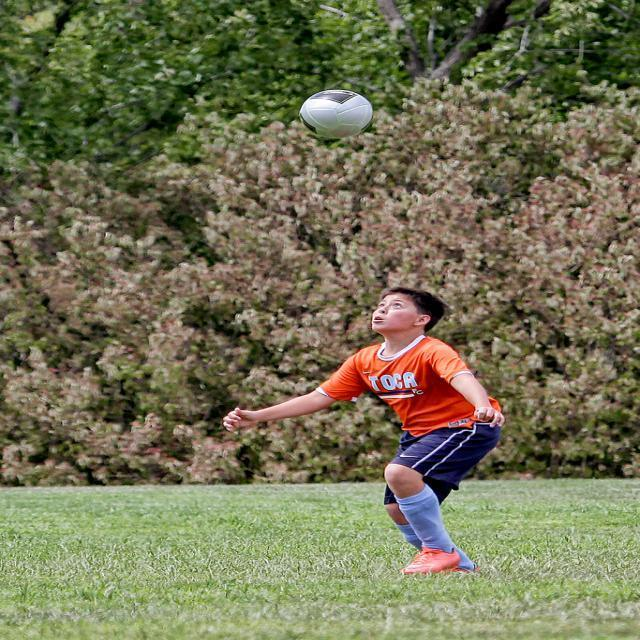football: (292, 84, 381, 147)
